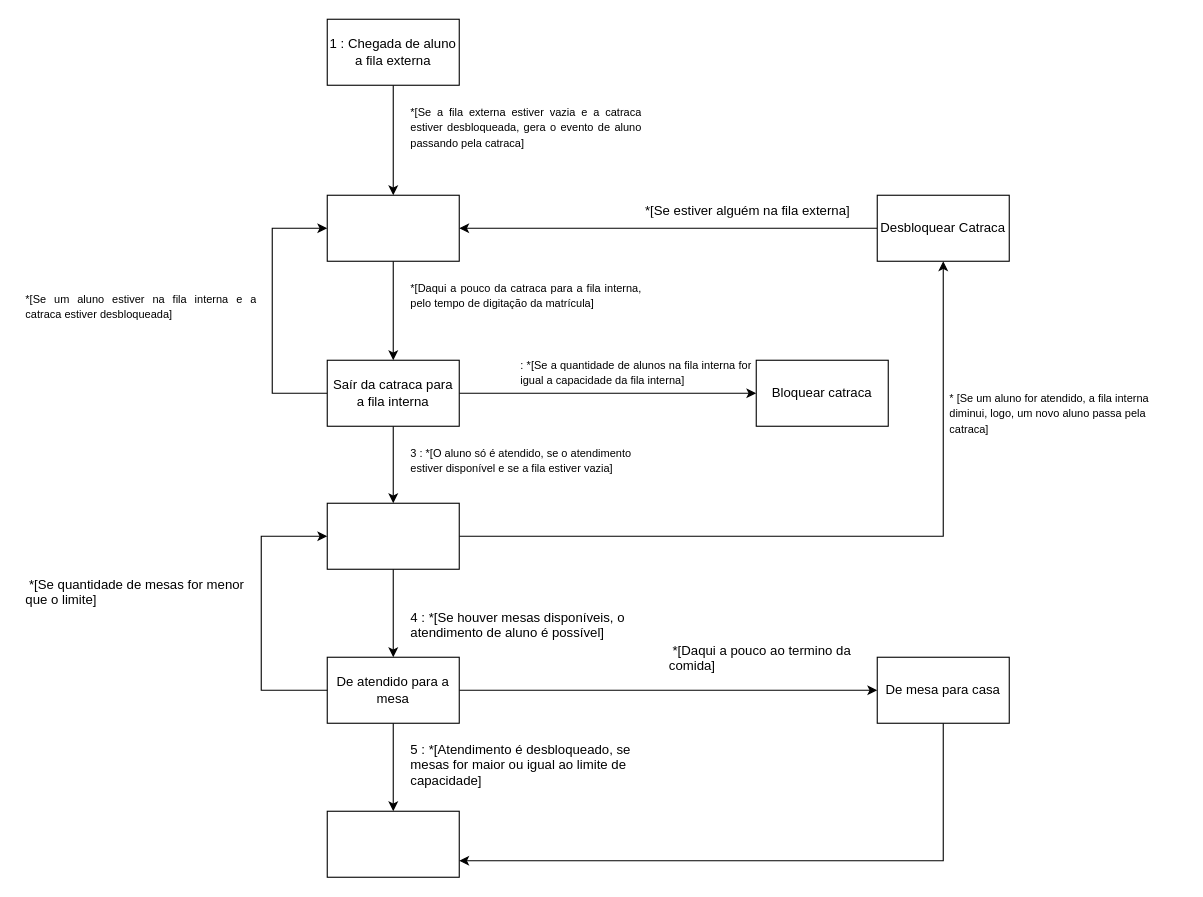
Some shapes in this 1203 by 897 pixel diagram are drawn without their labels. Each missing label, with the centre of its shape:
"2 : Sair da fila externa para a catraca" goes at (x=392, y=227).
"Da fila interna para o atendimento" goes at (x=392, y=535).
"Desbloquear atendimento" goes at (x=392, y=843).
